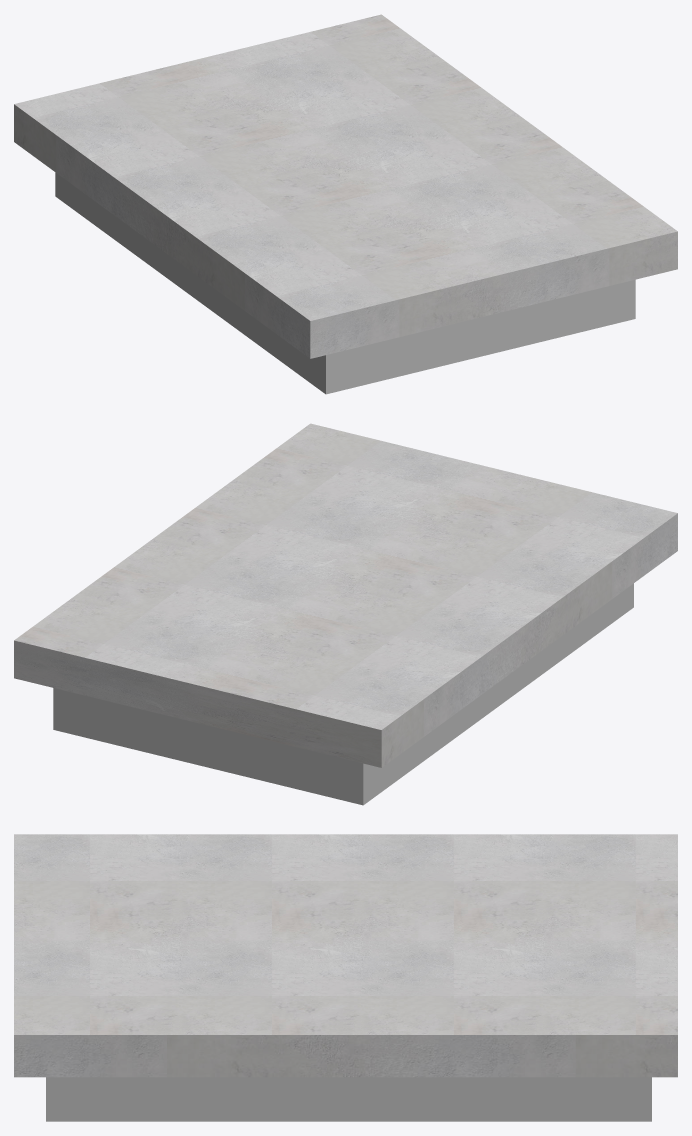
File: Table1.fbx
3 views of the same model, one above another, from view 1: azimuth 30°, elevation 25°; view 2: azimuth 150°, elevation 25°; view 3: azimuth 270°, elevation 25° (orthographic). The views are drawn at different scales.
Parts seen in each view (by area): view 1: Cube; view 2: Cube; view 3: Cube.
Boxes of the visible parts, x1=… form: Cube: x1=14, y1=14, x2=677, y2=394; Cube: x1=14, y1=423, x2=677, y2=805; Cube: x1=14, y1=834, x2=677, y2=1121.
Bounding box in the file's own units: 1446 × 342 × 2019.
